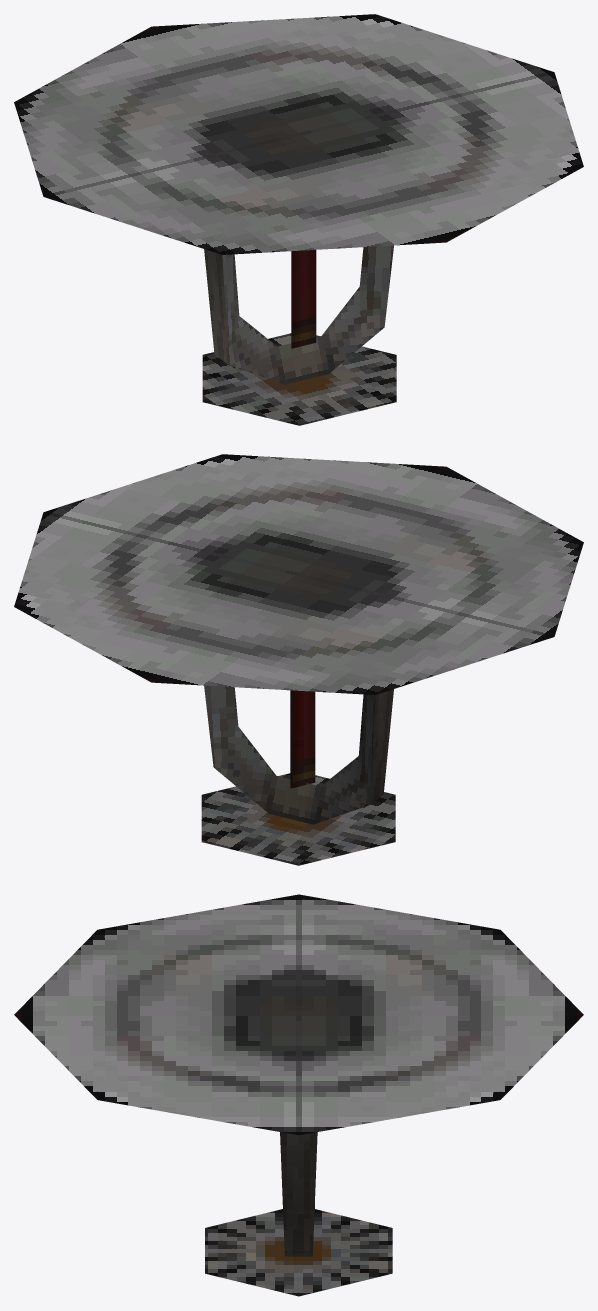
File: p_rus_fire_sprnklr_lod1.glb
The picture shows the model from 3 angles, top to bottom: view 1: azimuth 30°, elevation 25°; view 2: azimuth 150°, elevation 25°; view 3: azimuth 270°, elevation 25°; orthographic projection. The views are drawn at different scales.
Visible parts, largest first — view 1: surf0; view 2: surf0; view 3: surf0.
Part boxes in pixels (left/top/right/bottom): surf0: left=14, top=14, right=583, bottom=425; surf0: left=14, top=454, right=583, bottom=865; surf0: left=14, top=894, right=583, bottom=1296.
Size of the model in its own units: 8.7 by 3.97 by 8.7.
